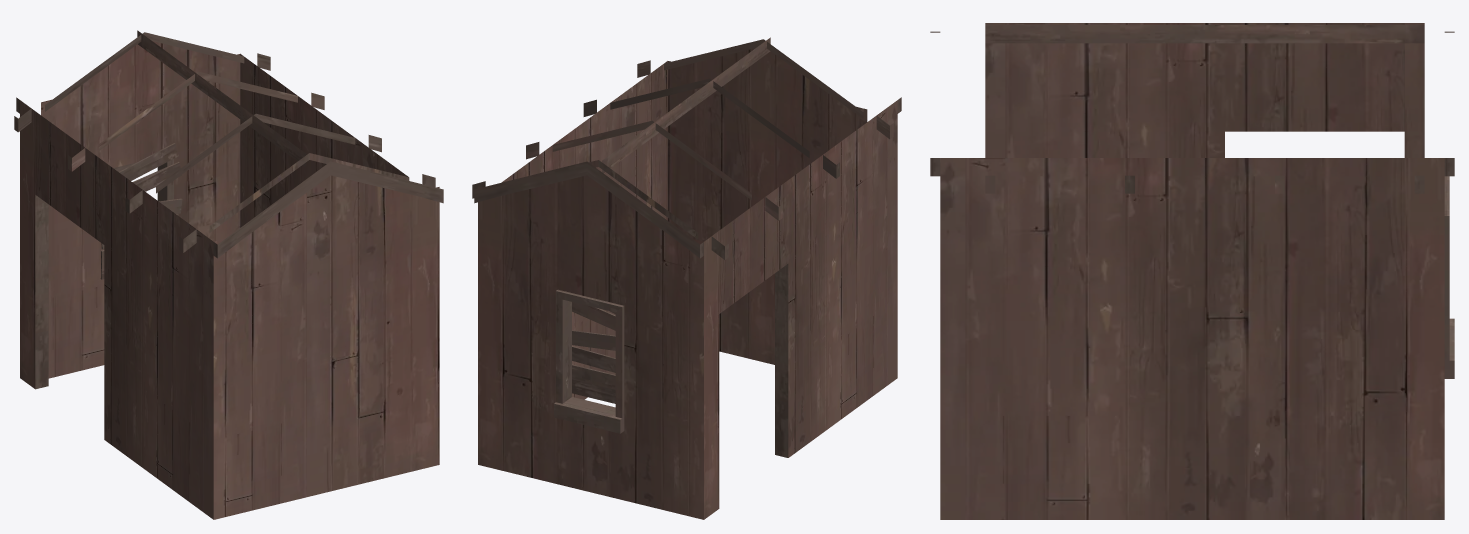
3 renders of one model, left to right at view 1: azimuth 30°, elevation 25°; view 2: azimuth 150°, elevation 25°; view 3: azimuth 270°, elevation 25°, orthographic. The views are drawn at different scales.
Parts seen in each view (by area): view 1: body0_model0_lod0_mesh1, body0_model0_lod0_mesh0; view 2: body0_model0_lod0_mesh1, body0_model0_lod0_mesh0; view 3: body0_model0_lod0_mesh1, body0_model0_lod0_mesh0.
Part boxes in pixels (box(x1,y1,x2,y2)): body0_model0_lod0_mesh1: box(20, 41, 439, 519); body0_model0_lod0_mesh0: box(14, 30, 443, 389); body0_model0_lod0_mesh1: box(478, 48, 897, 519); body0_model0_lod0_mesh0: box(472, 37, 901, 457); body0_model0_lod0_mesh1: box(940, 23, 1444, 519); body0_model0_lod0_mesh0: box(930, 25, 1454, 378).
Bounding box in the file's own units: 152 × 192 × 210.
Materials: 2 (2 with a texture image).
